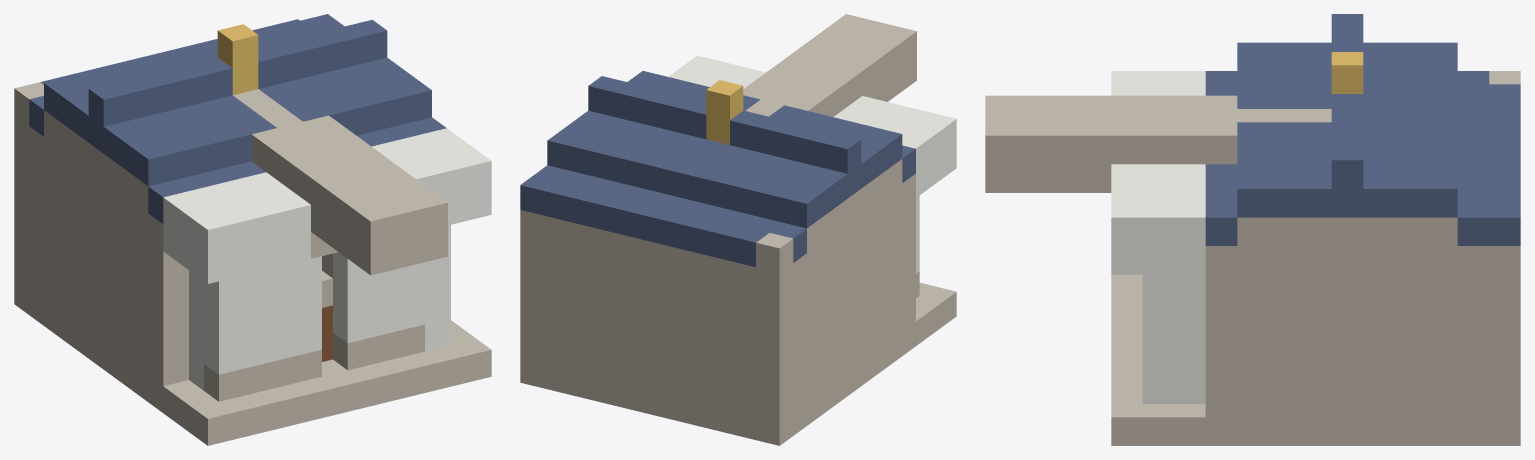
The model's file is bank.glb.
The picture shows the model from 3 angles, left to right: view 1: azimuth 30°, elevation 25°; view 2: azimuth 150°, elevation 25°; view 3: azimuth 270°, elevation 25°; orthographic projection. The views are drawn at different scales.
Parts seen in each view (by area): view 1: bank_stone, bank_offwhite, bank_roof_slate, bank_gold, bank_door; view 2: bank_stone, bank_roof_slate, bank_offwhite, bank_gold; view 3: bank_stone, bank_roof_slate, bank_offwhite, bank_gold.
Part boxes in pixels (x1=…): bank_stone: x1=14, y1=82, x2=491, y2=445; bank_offwhite: x1=163, y1=128, x2=491, y2=390; bank_roof_slate: x1=29, y1=14, x2=446, y2=223; bank_gold: x1=217, y1=24, x2=258, y2=94; bank_door: x1=322, y1=305, x2=332, y2=361; bank_stone: x1=520, y1=14, x2=956, y2=445; bank_roof_slate: x1=520, y1=71, x2=915, y2=267; bank_offwhite: x1=668, y1=55, x2=956, y2=273; bank_gold: x1=706, y1=80, x2=743, y2=144; bank_stone: x1=985, y1=71, x2=1520, y2=445; bank_roof_slate: x1=1205, y1=14, x2=1520, y2=245; bank_offwhite: x1=1111, y1=71, x2=1205, y2=403; bank_gold: x1=1331, y1=52, x2=1363, y2=93.
Size of the model in its own units: 14.67 by 14.67 by 22.68.
